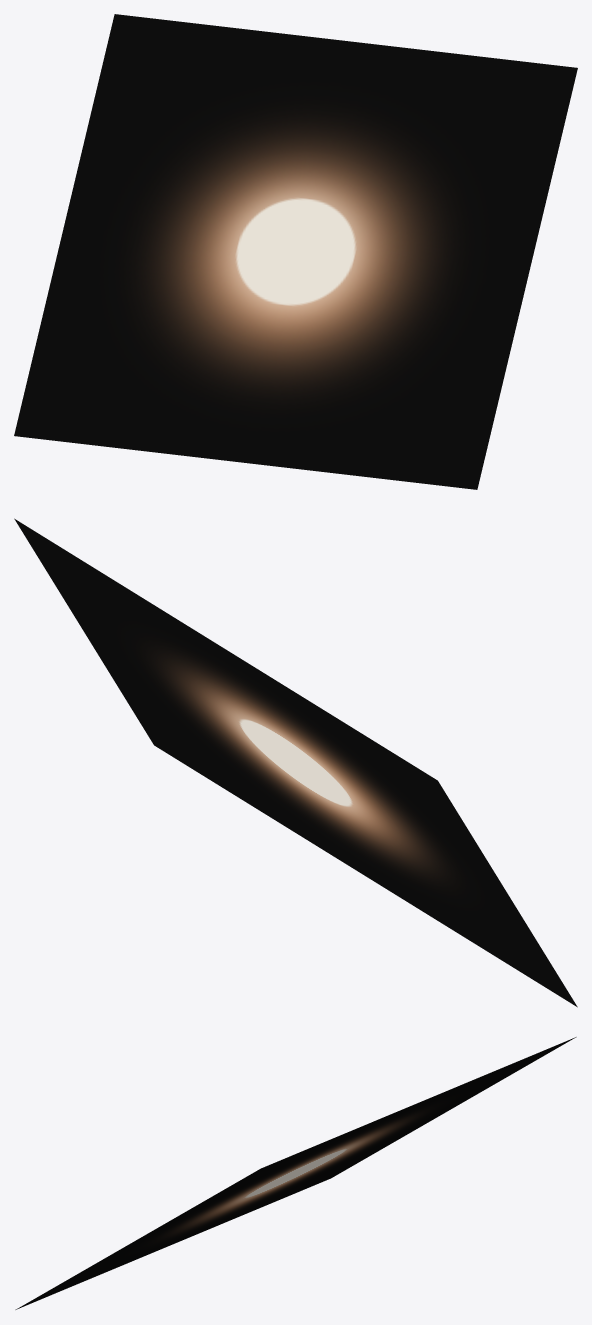
File: Sun noon - 01.fbx
3 renders of one model, top to bottom at view 1: azimuth 30°, elevation 25°; view 2: azimuth 150°, elevation 25°; view 3: azimuth 270°, elevation 25°, orthographic. The views are drawn at different scales.
Visible parts, largest first — view 1: sun; view 2: sun; view 3: sun.
Part boxes in pixels (bbox=[...]): sun: bbox=[14, 14, 577, 489]; sun: bbox=[14, 518, 577, 1007]; sun: bbox=[15, 1037, 576, 1309].
Bounding box in the file's own units: 63.21 × 30.71 × 63.31.
